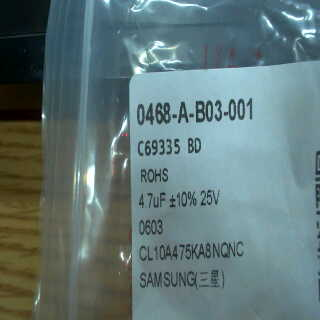4.7uF: (137, 188, 167, 213)
